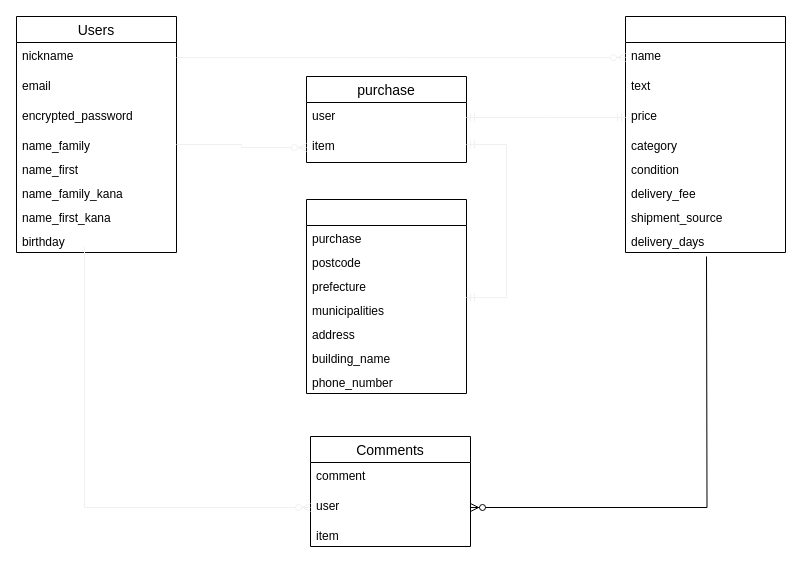
This 802x563 diagram has some shape labels left out. The shapes that lost their labels are listed below. From the top down, each one's box as (x1, y1, x2, y2) in pixels, then its label:
(624, 16, 786, 252): Items
(306, 198, 466, 394): adress
